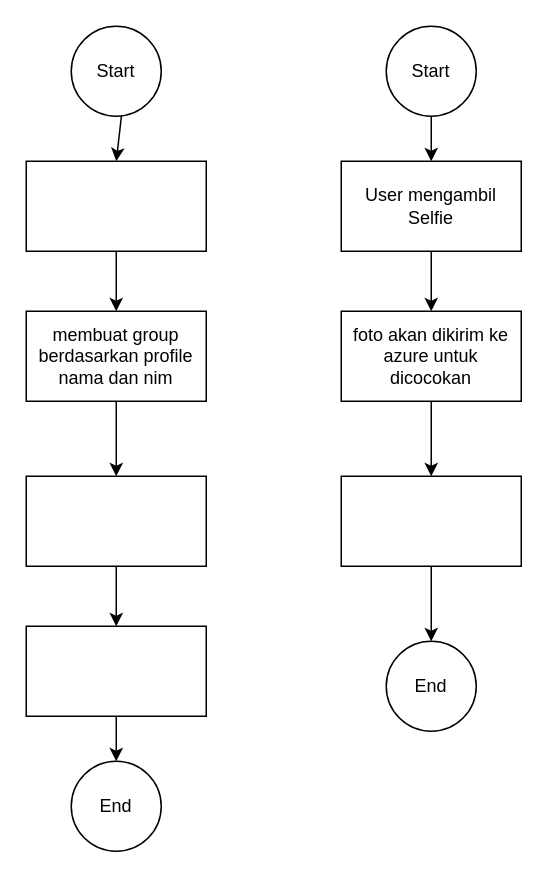
Image size: 548x878. Some labels were removed from this diagram. Here are the shapes that lost their labels. From the top down, the box of each, then its label:
(25, 160, 206, 251): Admin unggah foto
(25, 475, 206, 566): azure menggolongkan foto berdasarkan group
(340, 475, 521, 566): mengembalikan hasil apakah foto cocok atau tidak
(25, 625, 206, 716): Azure menyimpan foto dalam bentuk person id
